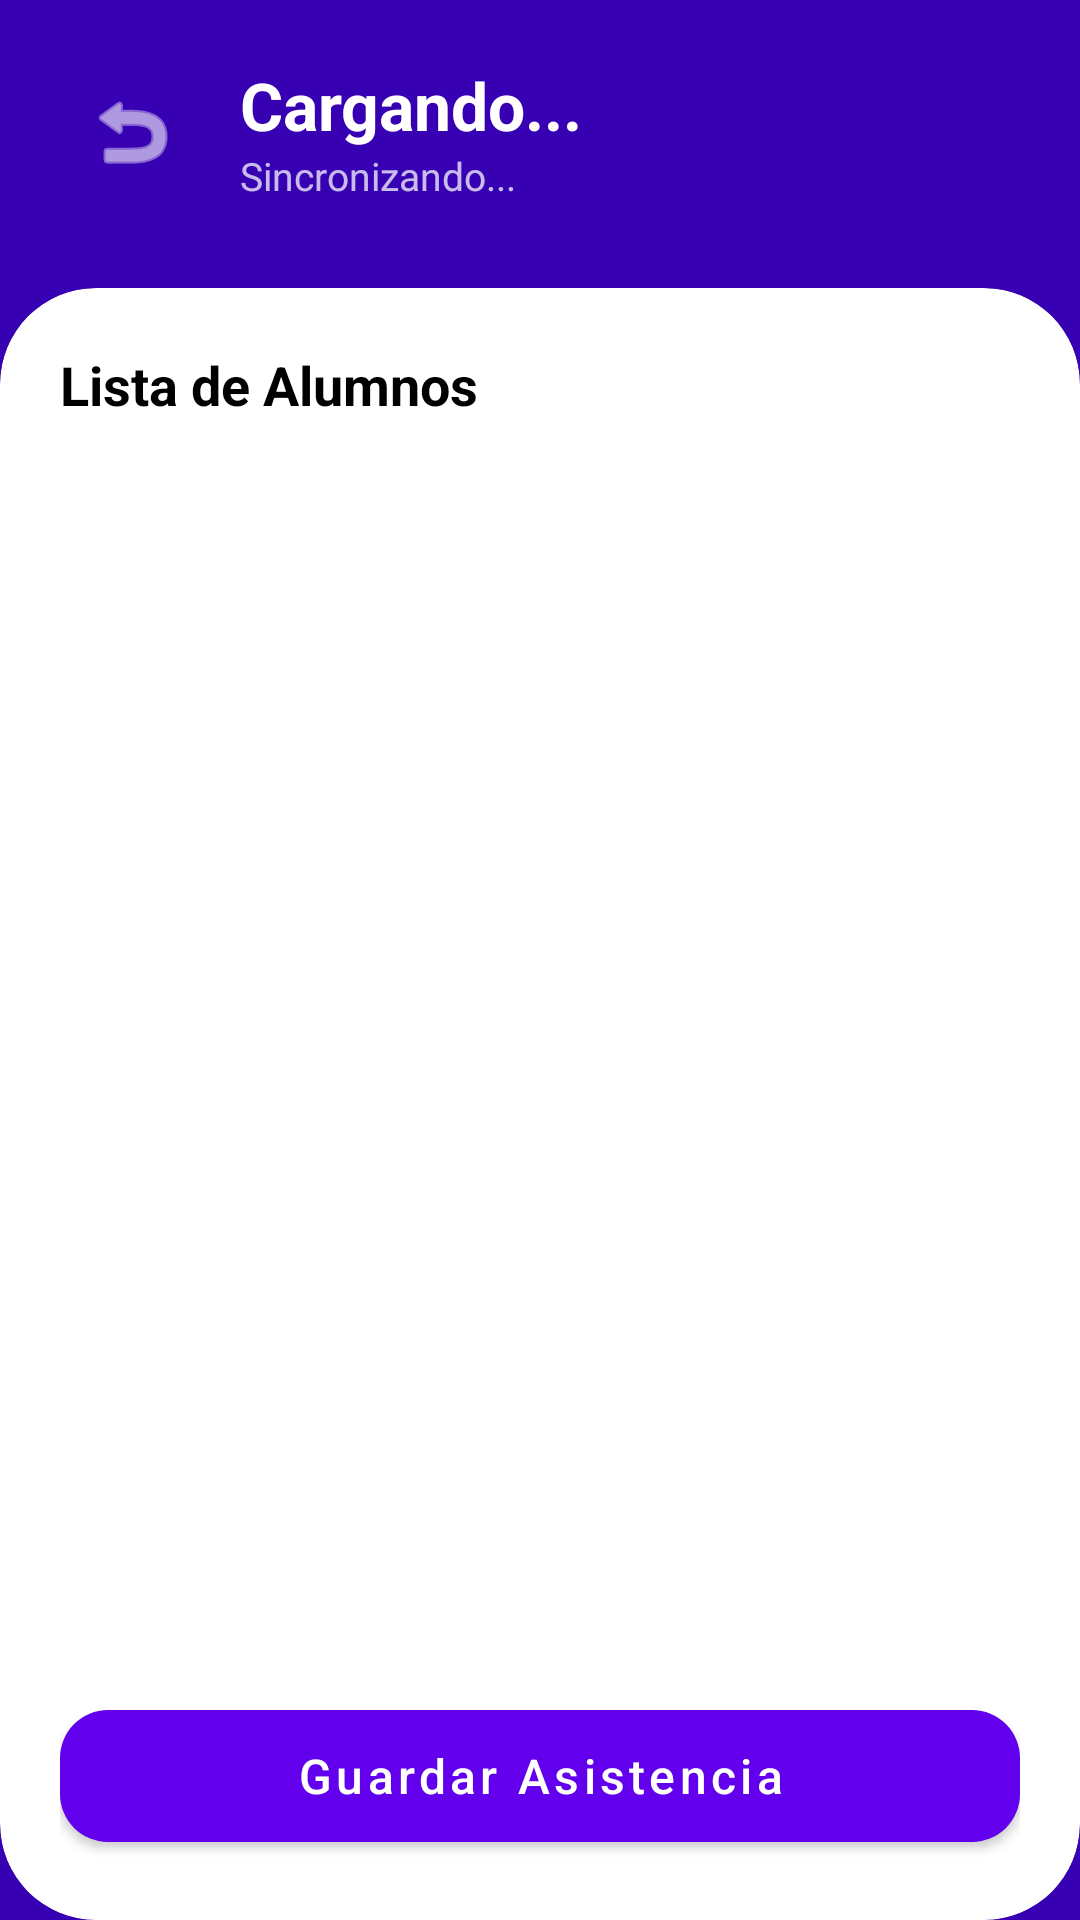

Icons on this 1080px×1920px Android screen, each with the point to tap as (x,y):
Volver: (133,132)
